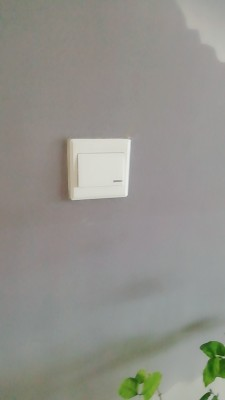switch: (74, 149, 128, 188)
